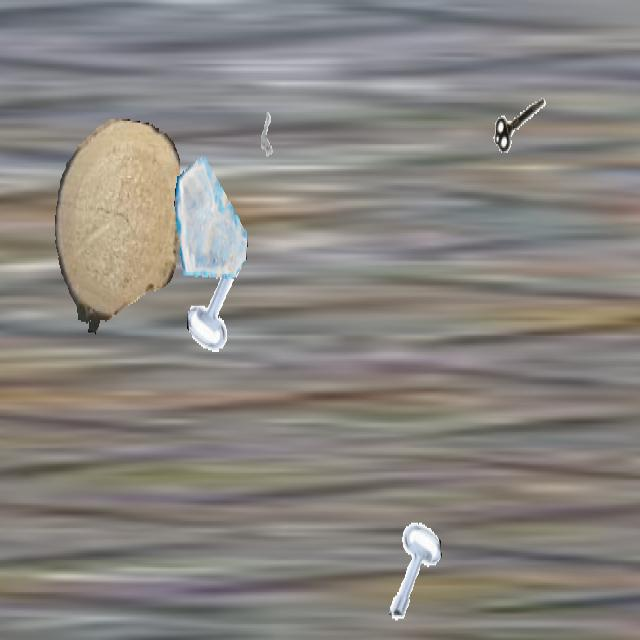glass: (174, 151, 248, 283)
metal: (187, 247, 249, 357), (382, 516, 442, 622), (491, 74, 549, 178), (248, 92, 286, 160)
wood: (55, 119, 179, 336)
